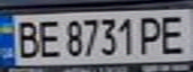1: (115, 15, 139, 56)
3: (100, 15, 121, 56)
7: (78, 16, 100, 57)
8: (63, 16, 84, 57)
B: (9, 17, 42, 60)
E: (157, 11, 190, 55), (33, 17, 63, 60)
P: (136, 12, 166, 55)
